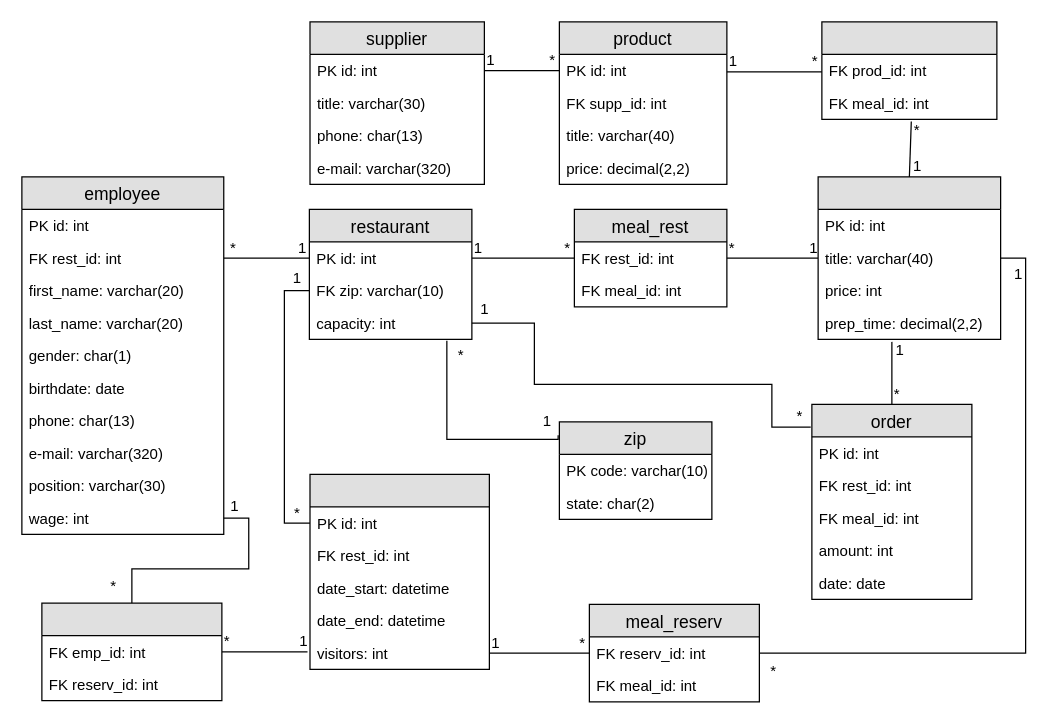
This 1053x728 diagram has some shape labels left out. The shapes that lost their labels are listed below. From the top down, each one's box as (x1, y1, x2, y2) in pixels, then its label:
(821, 21, 997, 119): meal_product
(817, 176, 1001, 339): meal
(309, 473, 489, 669): reservation
(41, 602, 222, 701): emp_reserv
